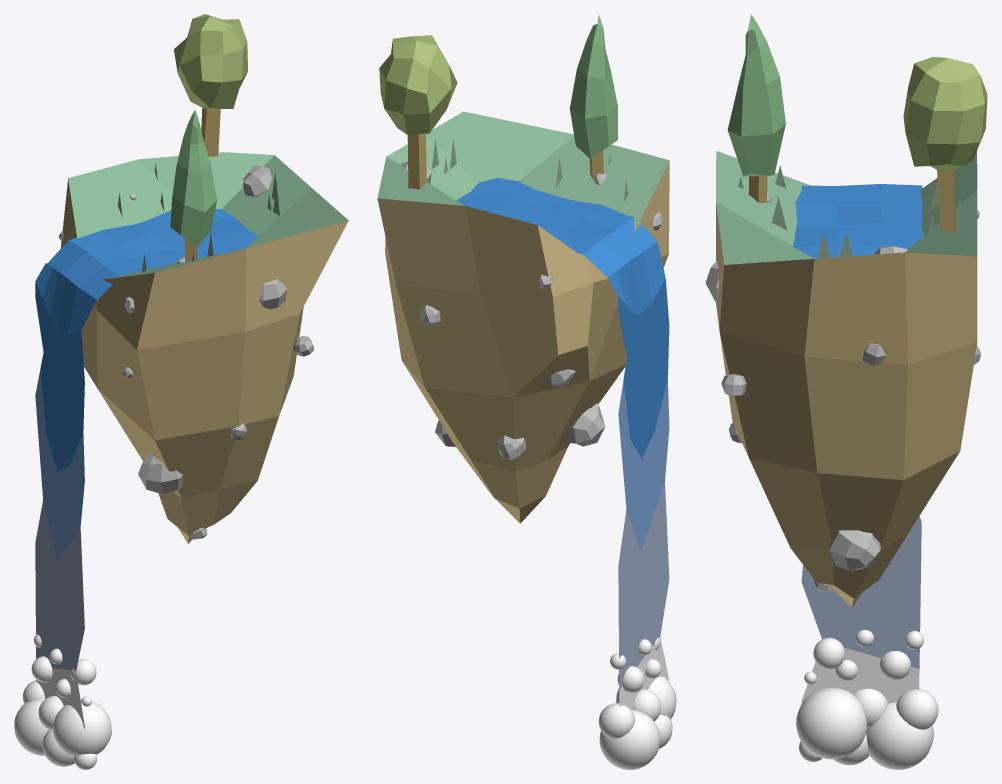
3 renders of one model, left to right at view 1: azimuth 30°, elevation 25°; view 2: azimuth 150°, elevation 25°; view 3: azimuth 270°, elevation 25°, orthographic. The views are drawn at different scales.
Parts seen in each view (by area): view 1: pCube1, pPlane3, pCube4, pCube6, pSphere1, pSphere2, pCube8, pCube3, pCube21, pSphere4, pCube13; view 2: pCube1, pPlane3, pCube4, pCube6, pSphere2, pCube8, pSphere5, pCube3, pSphere1, pSphere3, pCube17; view 3: pCube1, pPlane3, pCube4, pCube6, pSphere1, pSphere2, pCube19, pSphere5, pCube3, pSphere10, pSphere3, pSphere8.
Boxes of the visible parts, left/top/right/bottom form: pCube1: left=60, top=152, right=348, bottom=543; pPlane3: left=35, top=208, right=259, bottom=729; pCube4: left=174, top=14, right=247, bottom=111; pCube6: left=170, top=110, right=217, bottom=246; pSphere1: left=53, top=699, right=111, bottom=756; pSphere2: left=14, top=699, right=48, bottom=755; pCube8: left=138, top=453, right=183, bottom=493; pCube3: left=201, top=107, right=220, bottom=156; pCube21: left=242, top=166, right=272, bottom=197; pSphere4: left=42, top=729, right=74, bottom=766; pCube13: left=258, top=279, right=287, bottom=309; pCube1: left=377, top=111, right=669, bottom=523; pPlane3: left=456, top=178, right=669, bottom=709; pCube4: left=379, top=35, right=457, bottom=135; pCube6: left=569, top=15, right=617, bottom=158; pSphere2: left=599, top=709, right=660, bottom=769; pCube8: left=564, top=403, right=604, bottom=446; pSphere5: left=598, top=703, right=634, bottom=738; pCube3: left=407, top=134, right=426, bottom=189; pSphere1: left=616, top=676, right=676, bottom=719; pSphere3: left=632, top=689, right=660, bottom=721; pCube17: left=497, top=435, right=526, bottom=459; pCube1: left=716, top=151, right=977, bottom=607; pPlane3: left=793, top=184, right=923, bottom=703; pCube4: left=903, top=56, right=987, bottom=170; pCube6: left=727, top=14, right=785, bottom=176; pSphere1: left=796, top=687, right=867, bottom=759; pSphere2: left=866, top=702, right=933, bottom=769; pCube19: left=829, top=530, right=880, bottom=570; pSphere5: left=896, top=688, right=938, bottom=729; pCube3: left=937, top=169, right=955, bottom=233; pSphere10: left=813, top=637, right=845, bottom=669; pSphere3: left=852, top=688, right=887, bottom=728; pSphere8: left=879, top=651, right=910, bottom=680.
Bounding box in the file's own units: 0.1643 × 0.4037 × 0.126.
